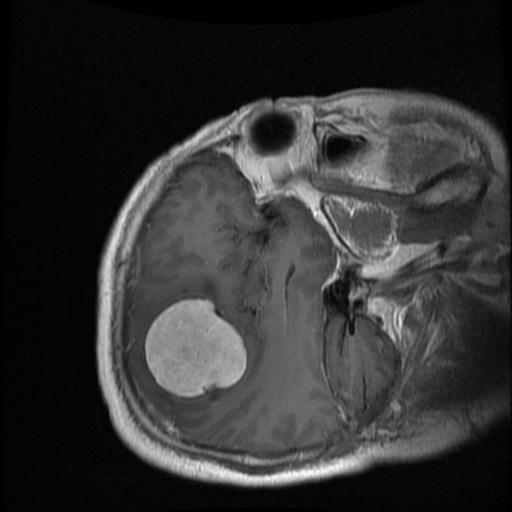meningioma: (144, 299, 246, 396)
